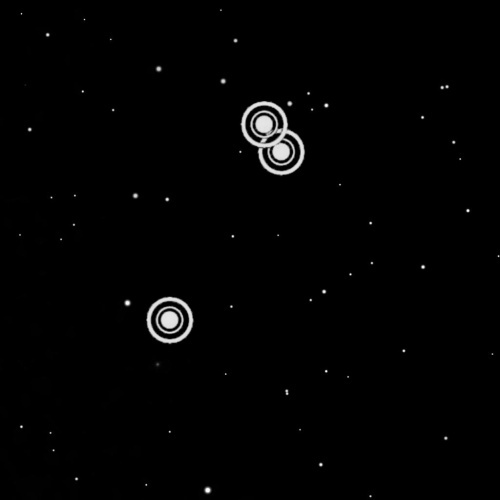canis_minor: (138, 92, 314, 356)
